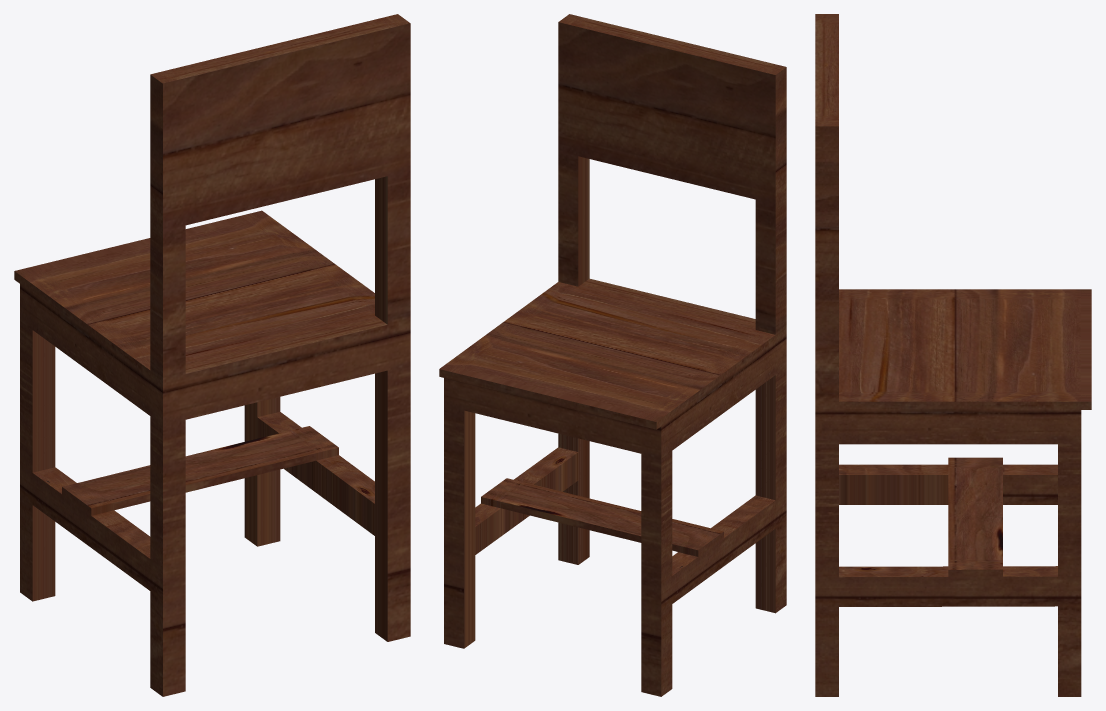
The model's file is kursi.fbx.
3 renders of one model, left to right at view 1: azimuth 30°, elevation 25°; view 2: azimuth 150°, elevation 25°; view 3: azimuth 270°, elevation 25°, orthographic. The views are drawn at different scales.
Parts seen in each view (by area): view 1: Cube.007; view 2: Cube.007; view 3: Cube.007.
Part boxes in pixels (x1,y1,x2,y2): Cube.007: (14,14,410,696); Cube.007: (439,14,786,696); Cube.007: (815,14,1091,696).
Size of the model in its own units: 318 by 752 by 330.
